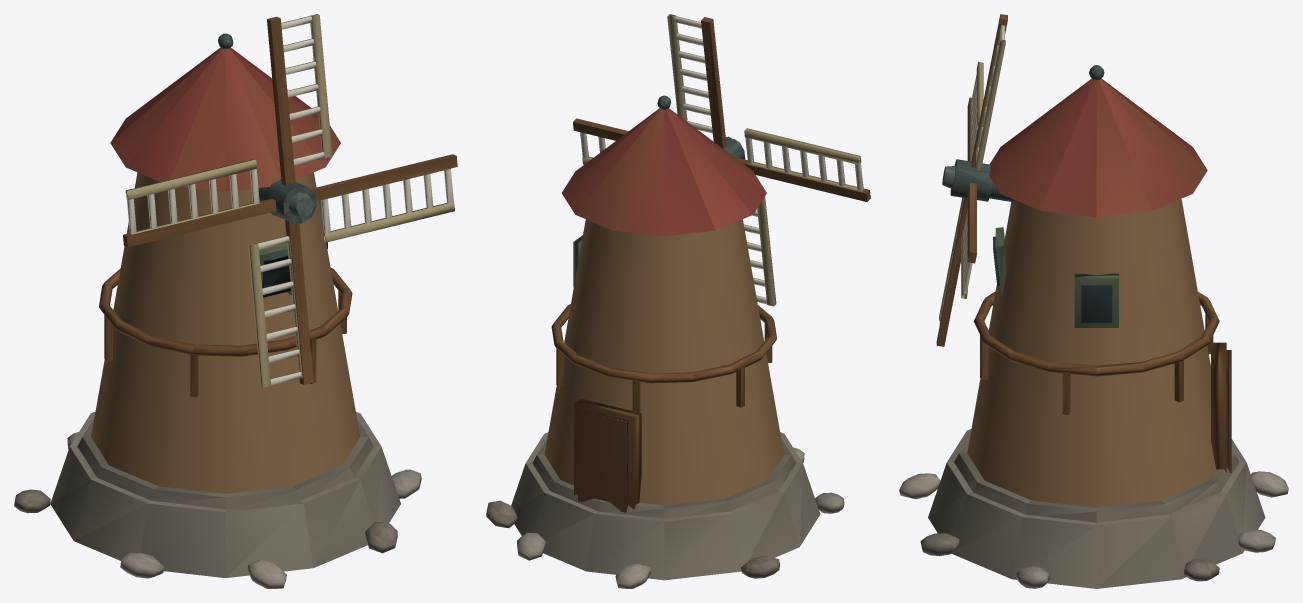
File: farm-windmill.fixed.m1.glb
3 views of the same model, side by side, from view 1: azimuth 30°, elevation 25°; view 2: azimuth 150°, elevation 25°; view 3: azimuth 270°, elevation 25° (orthographic). The views are drawn at different scales.
Parts seen in each view (by area): view 1: windmillHardware, windmillTower, windmillSailLattice, windmillBlades; view 2: windmillHardware, windmillTower, windmillSailLattice, windmillDoorLeaf, windmillBlades, windmillDoorFrame; view 3: windmillTower, windmillHardware, windmillBlades, windmillSailLattice, windmillDoorFrame, windmillWindowFrameX, windmillWindowGlassX, windmillDoorLeaf.
Part boxes in pixels (box(x1,y1,x2,y2)): windmillHardware: box(14, 33, 421, 588); windmillTower: box(91, 172, 360, 493); windmillSailLattice: box(125, 14, 454, 387); windmillBlades: box(123, 16, 457, 384); windmillHardware: box(486, 95, 844, 588); windmillTower: box(544, 219, 783, 505); windmillSailLattice: box(580, 14, 863, 306); windmillDoorLeaf: box(578, 409, 628, 512); windmillBlades: box(573, 17, 870, 201); windmillDoorFrame: box(574, 398, 641, 509); windmillTower: box(967, 199, 1215, 507); windmillHardware: box(899, 65, 1288, 588); windmillBlades: box(936, 14, 1007, 346); windmillSailLattice: box(939, 25, 1005, 324); windmillDoorFrame: box(1211, 342, 1226, 472); windmillWindowFrameX: box(1074, 273, 1118, 327); windmillWindowGlassX: box(1081, 285, 1112, 322); windmillDoorLeaf: box(1226, 350, 1231, 472).
Size of the model in its own units: 3.35 by 5 by 3.51.
